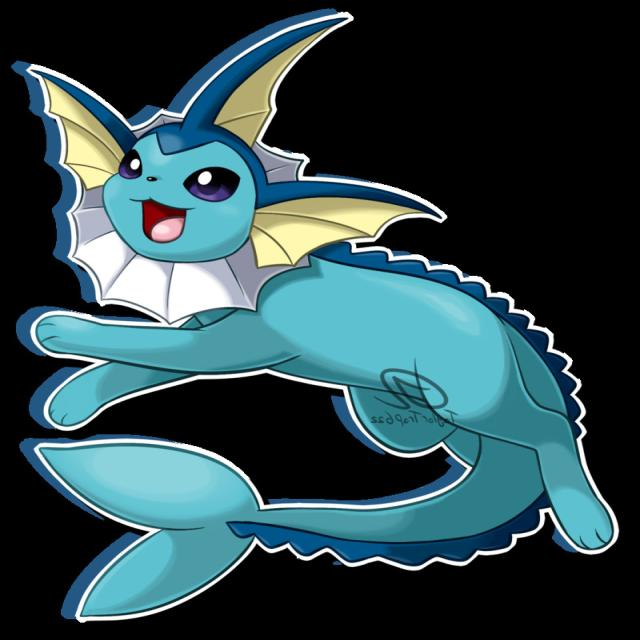Vaporeon: (37, 78, 557, 392)
